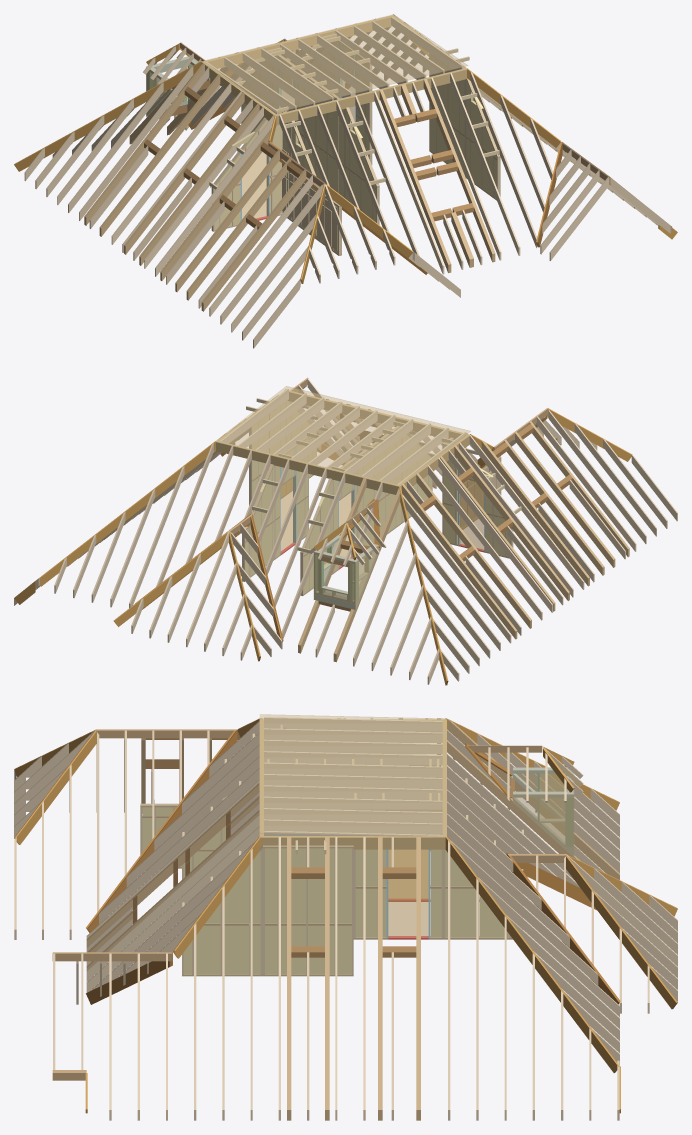
The model's file is stage-5.glb.
3 renders of one model, top to bottom at view 1: azimuth 30°, elevation 25°; view 2: azimuth 150°, elevation 25°; view 3: azimuth 270°, elevation 25°, orthographic. The views are drawn at different scales.
Visible parts, largest first — view 1: Geom3D_Ply 1 (×3), Geom3D_JH19 jack hip 47.0 x 175.0 C24 L2072, Geom3D_M206 osb 18 OSB3 deck L0, Geom3D_Insulation Acoustic mineral wool, Geom3D_R40 common 47.0 x 175.0 C24 L5143, Geom3D_CP22 cripple 47.0 x 175.0 C24 L4093, Geom3D_CJ184 ceiling joist 47 x 195 C24 L3758, Geom3D_H01 hip 47 x 245 C24 L862, Geom3D_M185 firring 47 x 27-121 firring L3758, Geom3D (×2), Geom3D_Stud 38x89 C16, Geom3D_JV23 jack valley 47.0 x 175.0 C24 L3321 (+5 smaller); view 2: Geom3D_JH19 jack hip 47.0 x 175.0 C24 L2072, Geom3D_Ply 1 (×3), Geom3D_M206 osb 18 OSB3 deck L0, Geom3D_Insulation Acoustic mineral wool, Geom3D_R40 common 47.0 x 175.0 C24 L5143, Geom3D_CP22 cripple 47.0 x 175.0 C24 L4093, Geom3D_H01 hip 47 x 245 C24 L862, Geom3D_CJ184 ceiling joist 47 x 195 C24 L3758, Geom3D (×2), Geom3D_M185 firring 47 x 27-121 firring L3758, Geom3D_Stud 38x89 C16, Geom3D_V04 valley 63 x 245 C24 L3139 (+7 smaller); view 3: Geom3D_M206 osb 18 OSB3 deck L0, Geom3D_JH19 jack hip 47.0 x 175.0 C24 L2072, Geom3D_Insulation Acoustic mineral wool, Geom3D_CP22 cripple 47.0 x 175.0 C24 L4093, Geom3D_Ply 1 (×3), Geom3D_CJ184 ceiling joist 47 x 195 C24 L3758, Geom3D_R40 common 47.0 x 175.0 C24 L5143, Geom3D_H01 hip 47 x 245 C24 L862, Geom3D_M185 firring 47 x 27-121 firring L3758, Geom3D_V04 valley 63 x 245 C24 L3139, Geom3D (×2), Geom3D_RB02 ridge board 47 x 200 C24 L713 (+5 smaller).
Boxes of the visible parts, x1,y1,x2,y2 form: Geom3D_Ply 1 (×3): (84,15,598,311); Geom3D_JH19 jack hip 47.0 x 175.0 C24 L2072: (24,15,634,348); Geom3D_M206 osb 18 OSB3 deck L0: (146,14,467,116); Geom3D_Insulation Acoustic mineral wool: (214,41,496,253); Geom3D_R40 common 47.0 x 175.0 C24 L5143: (111,38,658,316); Geom3D_CP22 cripple 47.0 x 175.0 C24 L4093: (191,18,552,266); Geom3D_CJ184 ceiling joist 47 x 195 C24 L3758: (224,18,460,111); Geom3D_H01 hip 47 x 245 C24 L862: (14,14,677,283); Geom3D_M185 firring 47 x 27-121 firring L3758: (206,17,463,114); Geom3D (×2): (211,40,500,255); Geom3D_Stud 38x89 C16: (211,42,500,254); Geom3D_JV23 jack valley 47.0 x 175.0 C24 L3321: (176,50,670,233); Geom3D_JH19 jack hip 47.0 x 175.0 C24 L2072: (14,408,677,684); Geom3D_Ply 1 (×3): (95,390,629,662); Geom3D_M206 osb 18 OSB3 deck L0: (216,386,470,609); Geom3D_Insulation Acoustic mineral wool: (245,401,510,593); Geom3D_R40 common 47.0 x 175.0 C24 L5143: (111,378,636,647); Geom3D_CP22 cripple 47.0 x 175.0 C24 L4093: (156,401,545,638); Geom3D_H01 hip 47 x 245 C24 L862: (14,389,632,685); Geom3D_CJ184 ceiling joist 47 x 195 C24 L3758: (222,393,448,482); Geom3D (×2): (242,401,509,595); Geom3D_M185 firring 47 x 27-121 firring L3758: (220,388,466,484); Geom3D_Stud 38x89 C16: (242,401,513,594); Geom3D_V04 valley 63 x 245 C24 L3139: (135,443,493,641); Geom3D_M206 osb 18 OSB3 deck L0: (259,714,574,857); Geom3D_JH19 jack hip 47.0 x 175.0 C24 L2072: (14,729,677,1120); Geom3D_Insulation Acoustic mineral wool: (142,756,521,974); Geom3D_CP22 cripple 47.0 x 175.0 C24 L4093: (90,718,602,990); Geom3D_Ply 1 (×3): (86,718,619,1120); Geom3D_CJ184 ceiling joist 47 x 195 C24 L3758: (264,723,442,833); Geom3D_R40 common 47.0 x 175.0 C24 L5143: (76,718,677,1120); Geom3D_H01 hip 47 x 245 C24 L862: (14,718,677,1113); Geom3D_M185 firring 47 x 27-121 firring L3758: (264,717,442,835); Geom3D_V04 valley 63 x 245 C24 L3139: (86,730,620,1004); Geom3D (×2): (140,751,523,976); Geom3D_RB02 ridge board 47 x 200 C24 L713: (52,729,565,1080).
Bounding box in the file's own units: 13.86 × 4.67 × 13.97.
